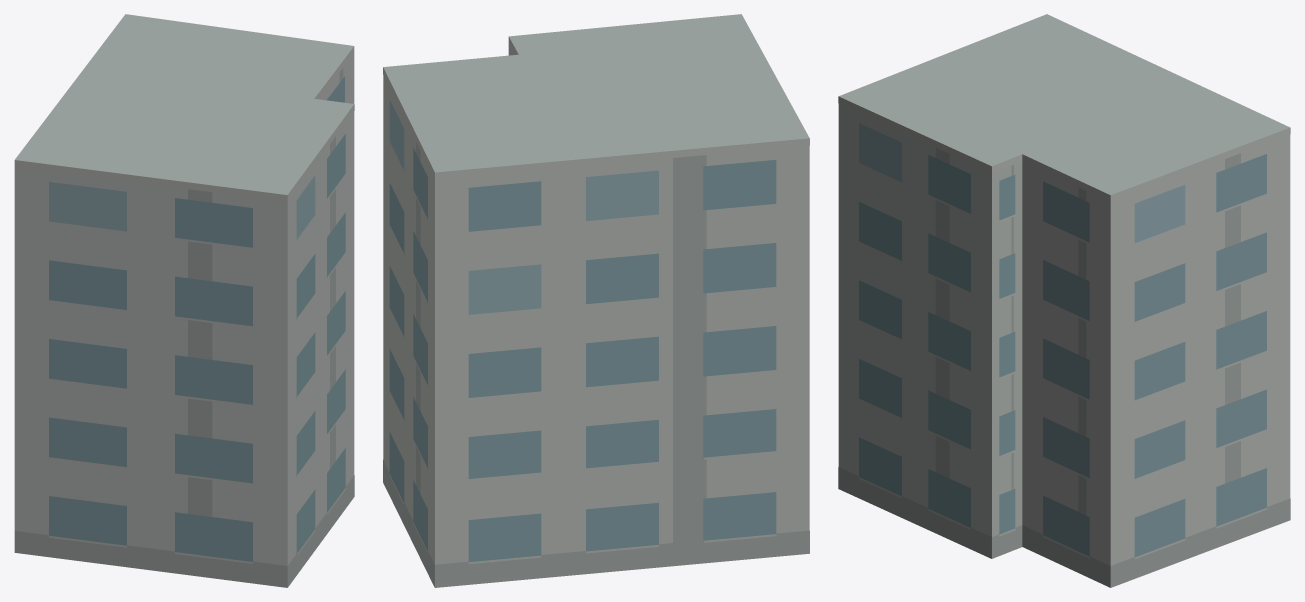
The model's file is survey-upis-32792020.glb.
3 renders of one model, left to right at view 1: azimuth 30°, elevation 25°; view 2: azimuth 150°, elevation 25°; view 3: azimuth 270°, elevation 25°, orthographic. The views are drawn at different scales.
Visible parts, largest first — view 1: survey-upis-32792020.tmp; view 2: survey-upis-32792020.tmp; view 3: survey-upis-32792020.tmp.
Boxes of the visible parts, bbox=[...] form: survey-upis-32792020.tmp: bbox=[14, 14, 354, 587]; survey-upis-32792020.tmp: bbox=[383, 14, 809, 587]; survey-upis-32792020.tmp: bbox=[838, 14, 1290, 587].
Size of the model in its own units: 13.77 by 13.9 by 14.51.
